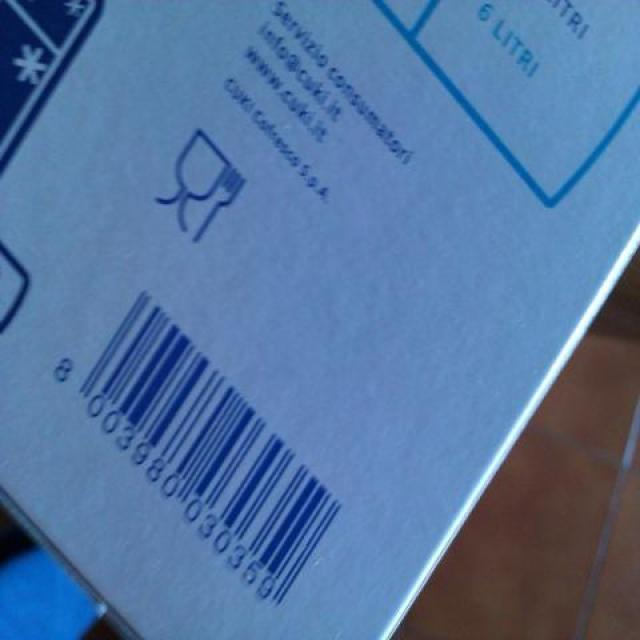Barcode: (36, 265, 363, 623)
